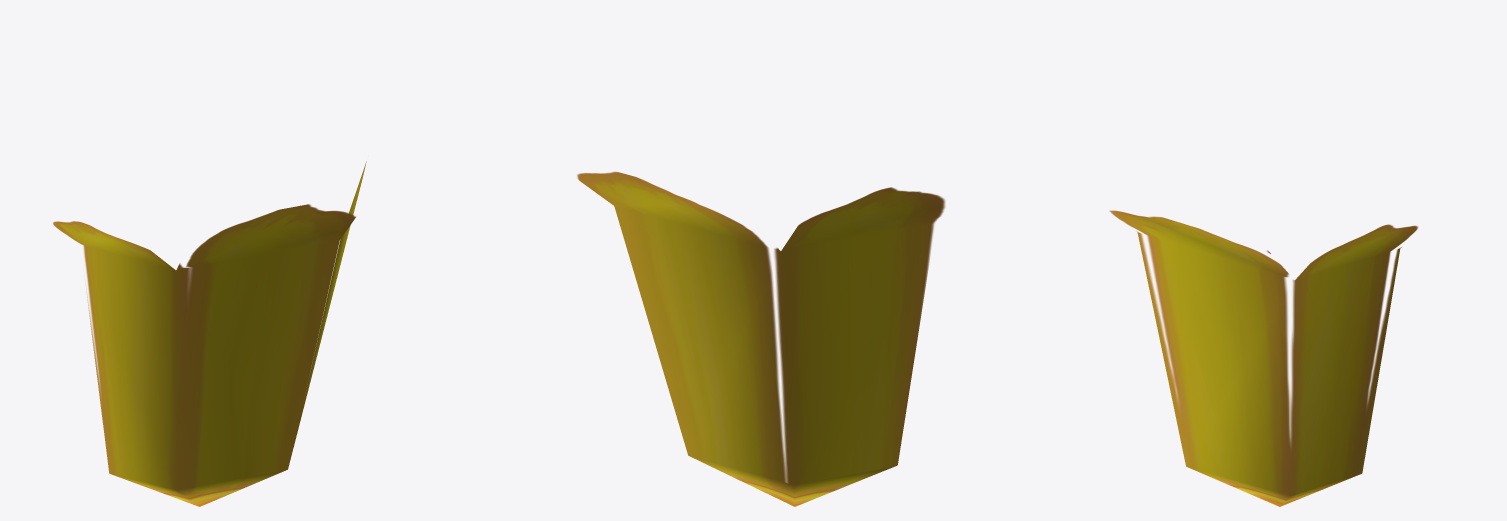
Rendered from prop_snm_flower_petal_3.glb.
3 renders of one model, left to right at view 1: azimuth 30°, elevation 25°; view 2: azimuth 150°, elevation 25°; view 3: azimuth 270°, elevation 25°, orthographic. The views are drawn at different scales.
Visible parts, largest first — view 1: Petal_4; view 2: Petal_4; view 3: Petal_4.
Boxes of the visible parts, <box> form: Petal_4: <box>53,161,366,506</box>; Petal_4: <box>577,171,945,506</box>; Petal_4: <box>1109,210,1418,506</box>.
Size of the model in its own units: 0.3291 by 0.2521 by 0.2445.
1 material, 1 textured.
